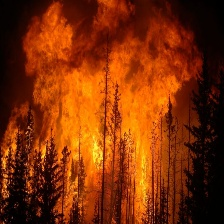fire: (4, 1, 206, 216)
